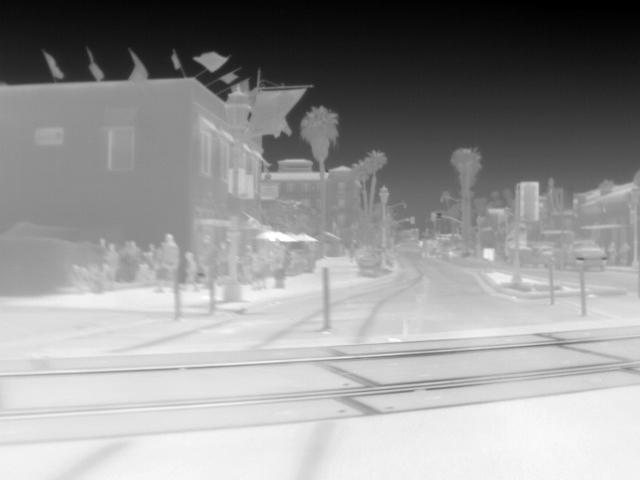car: (557, 242, 608, 270), (519, 244, 557, 269)
person: (162, 230, 179, 288), (270, 239, 288, 289), (105, 244, 122, 284), (181, 252, 198, 290), (67, 264, 87, 296), (254, 254, 270, 290), (99, 263, 116, 289), (603, 237, 618, 266), (620, 240, 635, 265)
